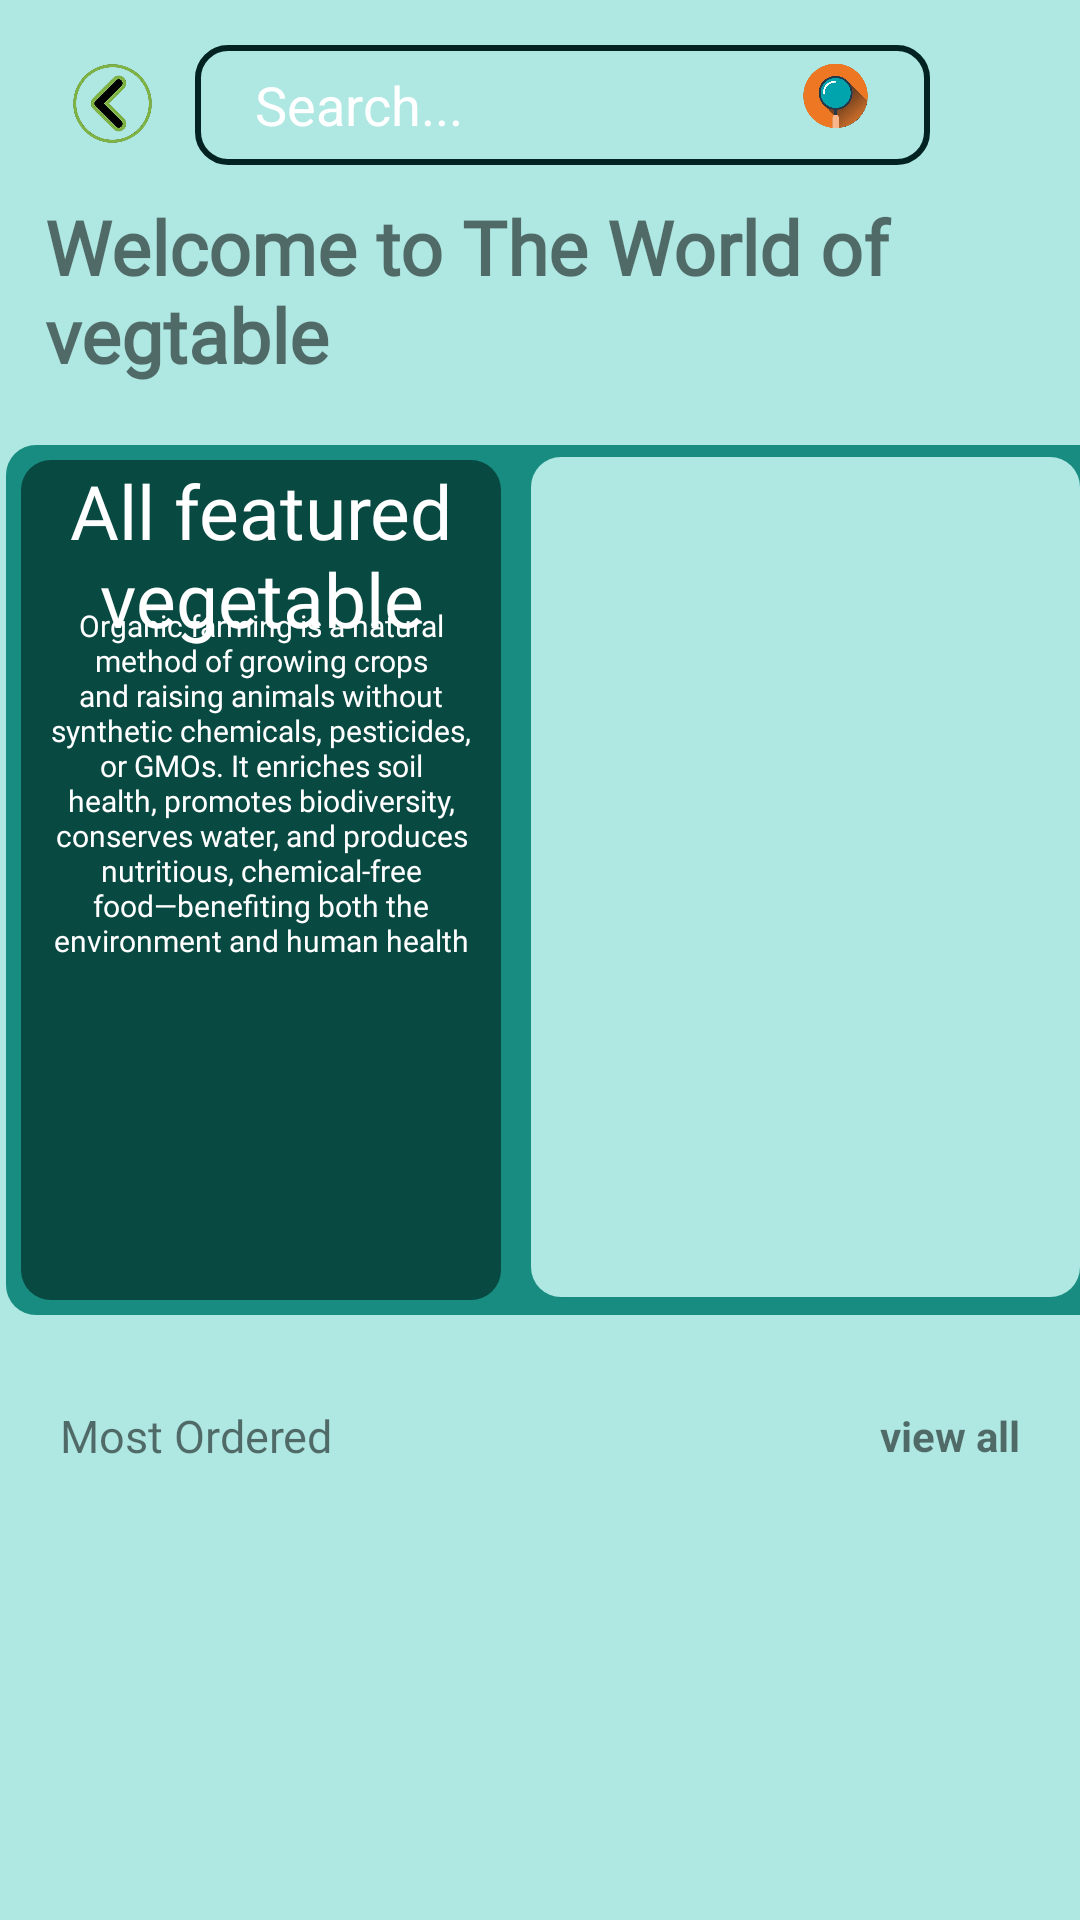

Named icons in this screenshot (1080 × 1920) and their centers, (x,y):
ser: (835,96)
